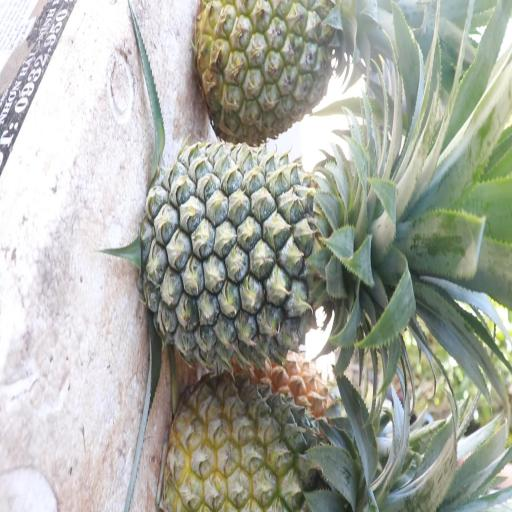------------------------------: (166, 371, 375, 512), (197, 0, 352, 141)
